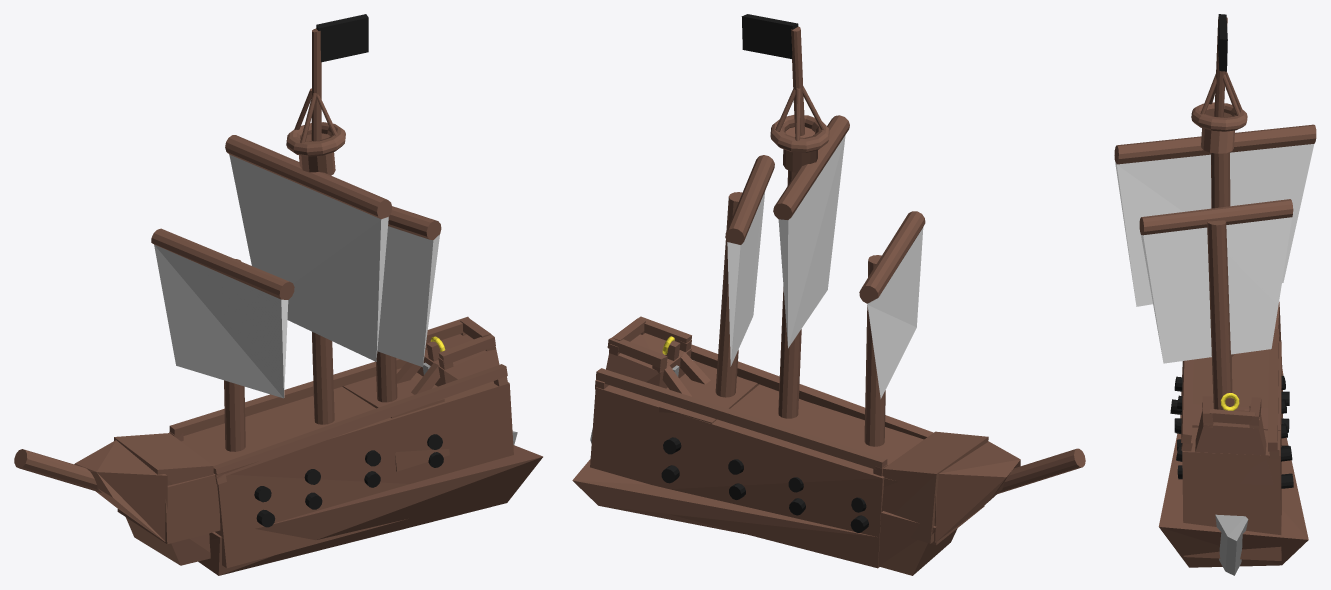
Rendered from BaseShip.fbx.
3 views of the same model, side by side, from view 1: azimuth 30°, elevation 25°; view 2: azimuth 150°, elevation 25°; view 3: azimuth 270°, elevation 25° (orthographic). The views are drawn at different scales.
Parts seen in each view (by area): view 1: group970421097; view 2: group970421097; view 3: group970421097.
Boxes of the visible parts, x1,y1,x2,y2 form: group970421097: (14, 14, 542, 575); group970421097: (572, 14, 1085, 575); group970421097: (1114, 14, 1316, 575).
Bounding box in the file's own units: 337 × 328 × 126.
